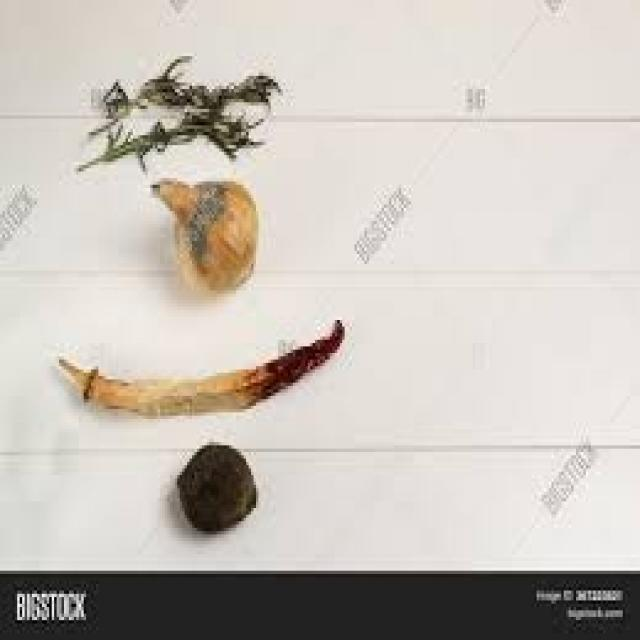organic waste: (57, 313, 342, 416), (84, 46, 278, 132), (150, 175, 256, 287), (76, 106, 258, 168), (175, 436, 256, 531)
